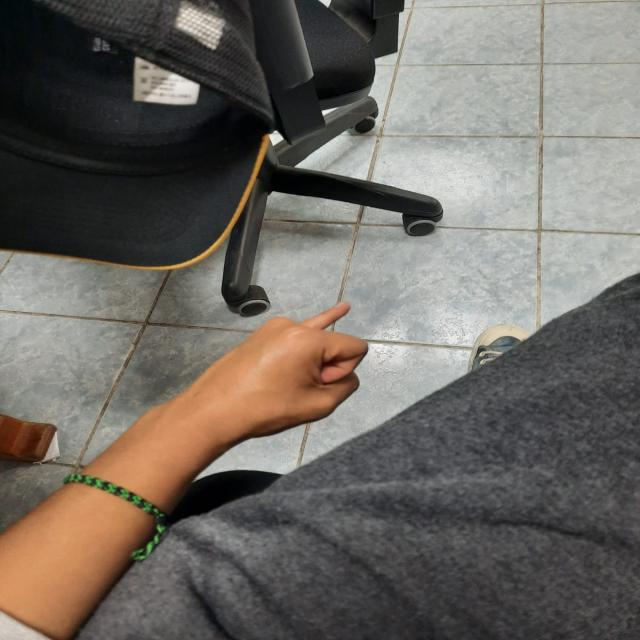Z: (155, 282, 389, 469)
